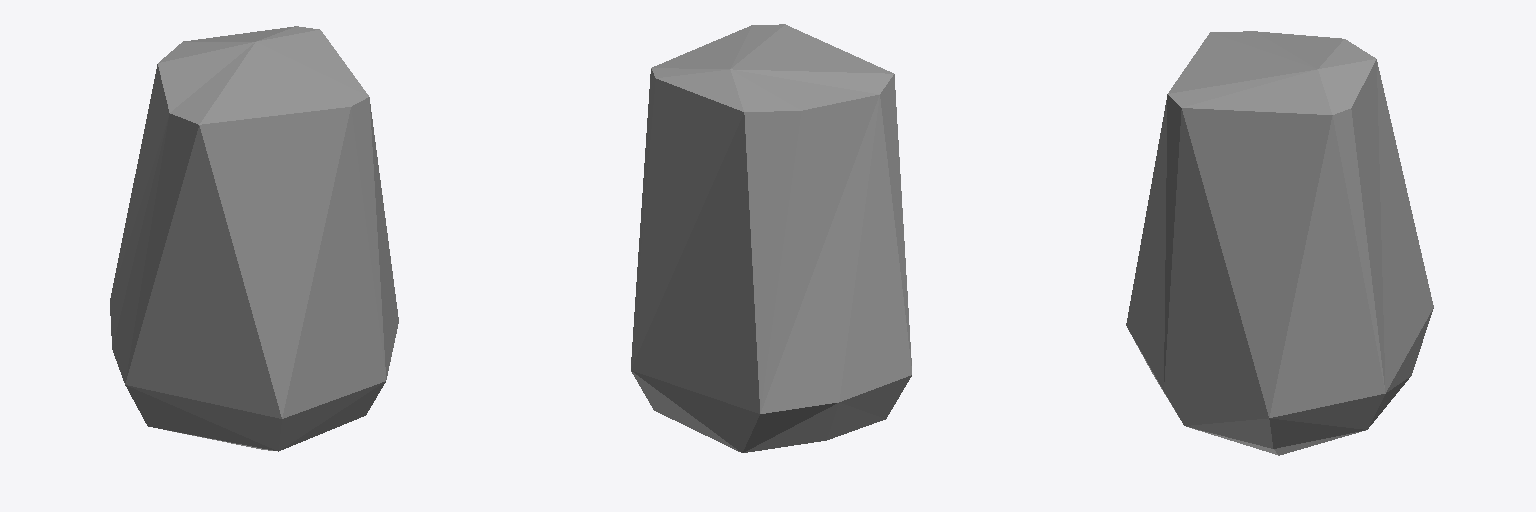
Rendered from Low_Poly_Cuboid_Rock_006.obj.
3 views of the same model, side by side, from view 1: azimuth 30°, elevation 25°; view 2: azimuth 150°, elevation 25°; view 3: azimuth 270°, elevation 25° (orthographic).
Parts seen in each view (by area): view 1: Low_Poly_Cuboid_Rock_006_Cube; view 2: Low_Poly_Cuboid_Rock_006_Cube; view 3: Low_Poly_Cuboid_Rock_006_Cube.
Part boxes in pixels (x1,y1,x2,y2): Low_Poly_Cuboid_Rock_006_Cube: (110,26,398,451); Low_Poly_Cuboid_Rock_006_Cube: (631,24,911,452); Low_Poly_Cuboid_Rock_006_Cube: (1126,31,1433,455).
Size of the model in its own units: 2.02 by 2.74 by 1.95.